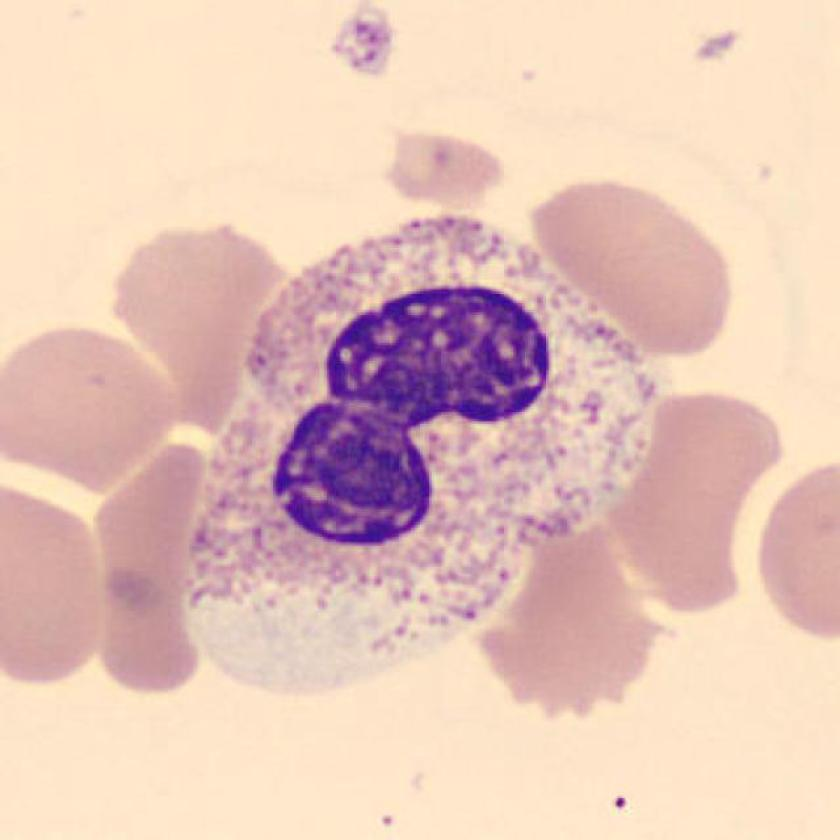neutrophil: (183, 219, 656, 693)
